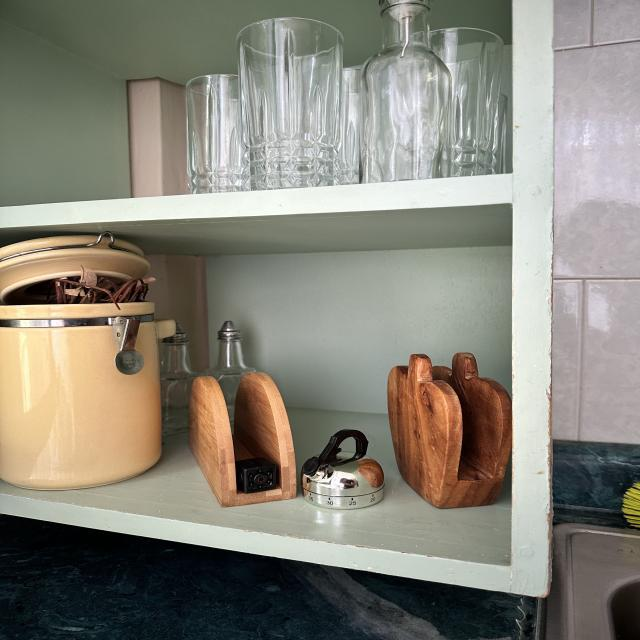hidden camera: (254, 474, 269, 485)
